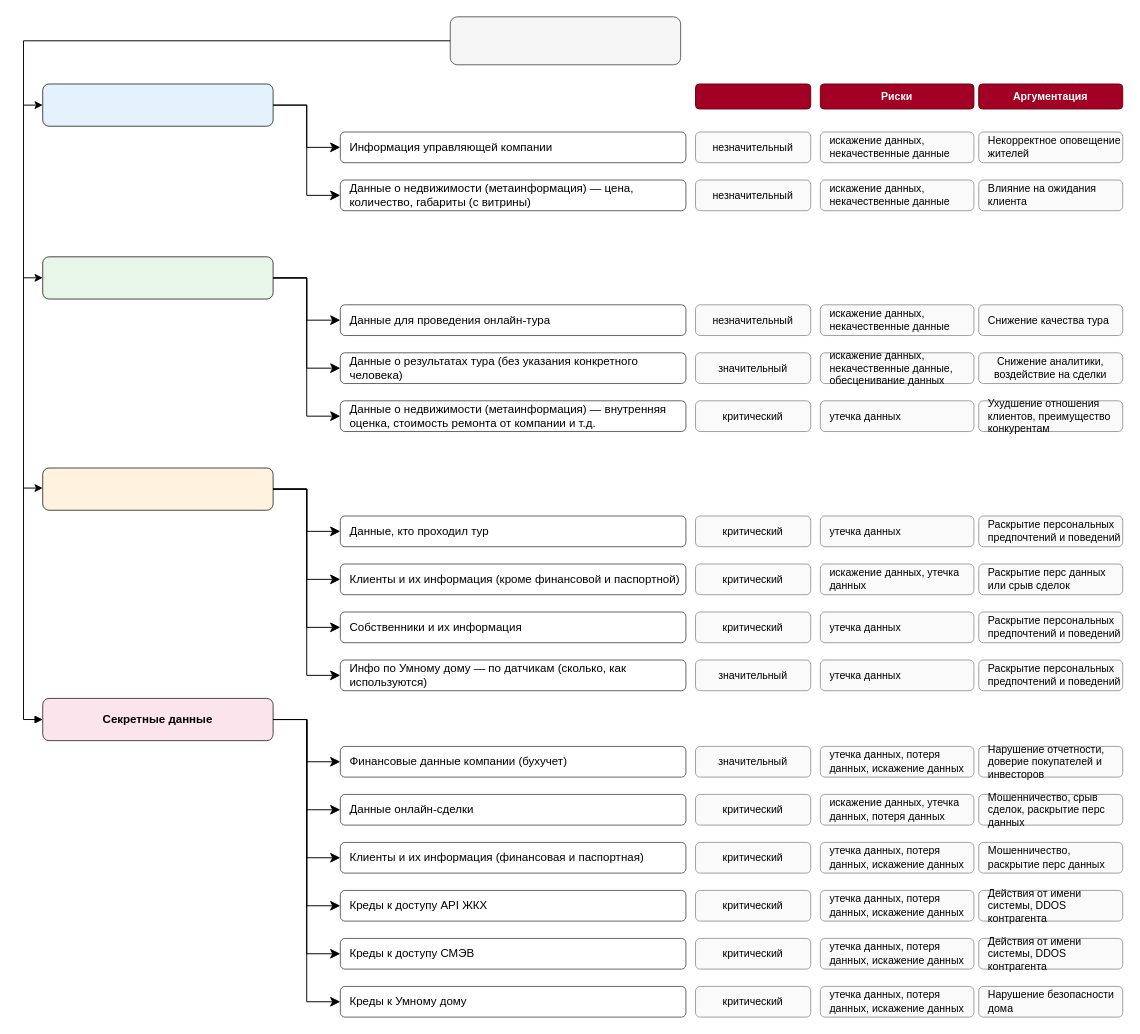
The diagram is 1140 pixels wide and 1034 high, and some of its shapes have lost their labels. Each missing label, with the centre of its shape:
"Безопасность данных" belongs at pixel 565 40.
"Внутренние данные" belongs at pixel 157 277.
"Воздействие" belongs at pixel 753 96.
"Конфиденциальные данные" belongs at pixel 157 488.
"Публичные данные" belongs at pixel 157 104.
